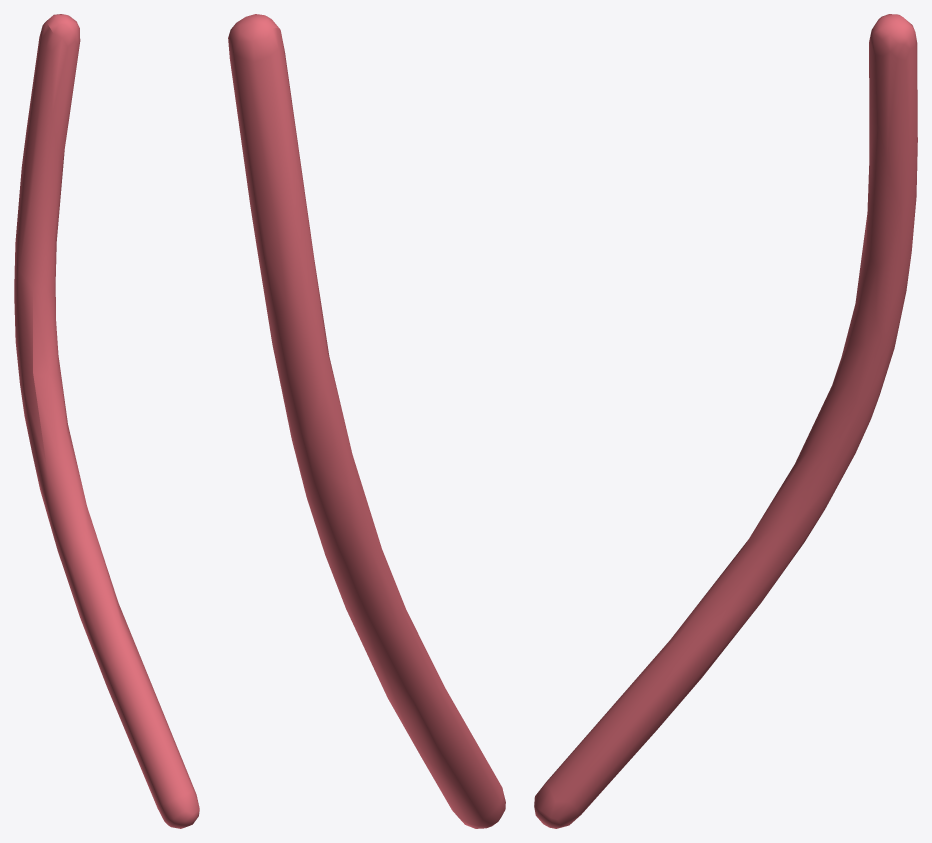
File: fma85119_fj2344.glb
The picture shows the model from 3 angles, left to right: view 1: azimuth 30°, elevation 25°; view 2: azimuth 150°, elevation 25°; view 3: azimuth 270°, elevation 25°; orthographic projection. The views are drawn at different scales.
Parts seen in each view (by area): view 1: FMA85119_FJ2344; view 2: FMA85119_FJ2344; view 3: FMA85119_FJ2344.
Boxes of the visible parts, x1,y1,x2,y2 form: FMA85119_FJ2344: (14,14,199,828); FMA85119_FJ2344: (228,14,505,828); FMA85119_FJ2344: (534,14,917,828).
Size of the model in its own units: 0.00304 by 0.0276 by 0.0116.
